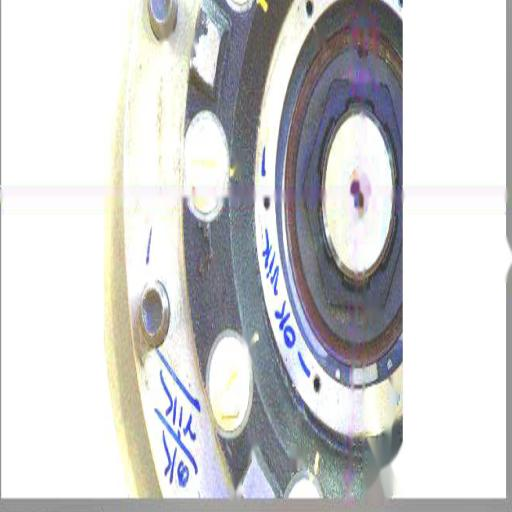center: (346, 178, 368, 212)
notch: (356, 44, 371, 69)
